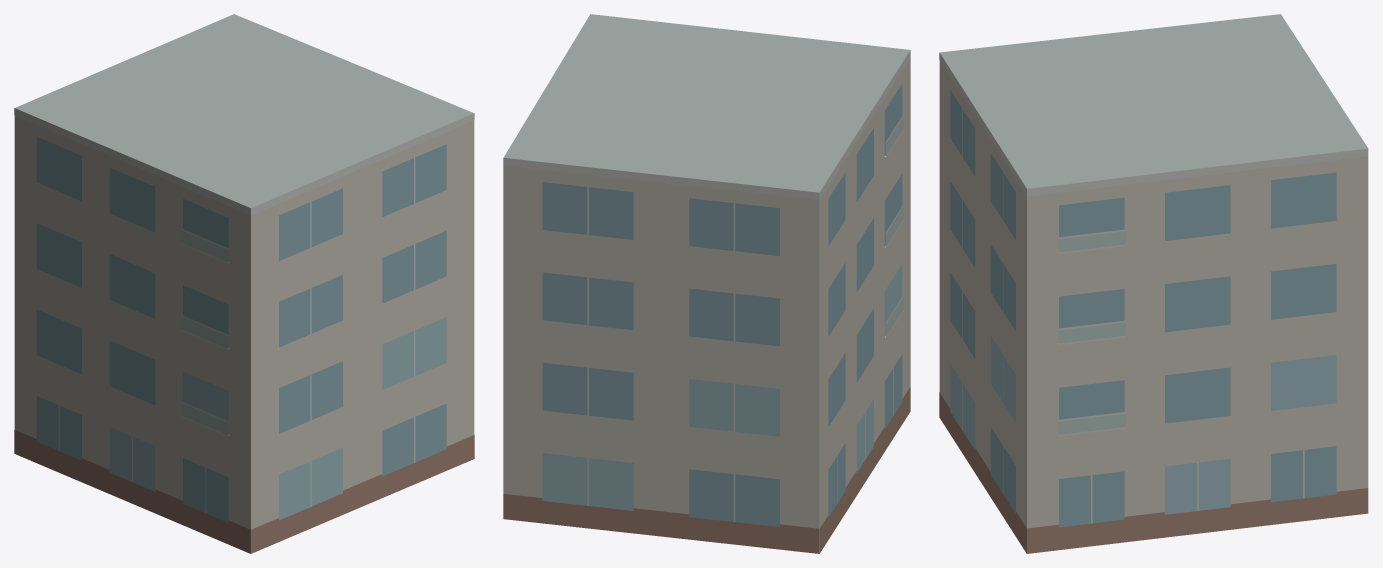
File: survey-upis-32935249.glb
3 renders of one model, left to right at view 1: azimuth 30°, elevation 25°; view 2: azimuth 150°, elevation 25°; view 3: azimuth 270°, elevation 25°, orthographic. The views are drawn at different scales.
Visible parts, largest first — view 1: survey-upis-32935249.tmp; view 2: survey-upis-32935249.tmp; view 3: survey-upis-32935249.tmp.
Boxes of the visible parts, x1,y1,x2,y2 form: survey-upis-32935249.tmp: (14, 14, 474, 553); survey-upis-32935249.tmp: (503, 14, 910, 553); survey-upis-32935249.tmp: (939, 14, 1368, 553).
Bounding box in the file's own units: 11.93 × 11.6 × 12.37.
